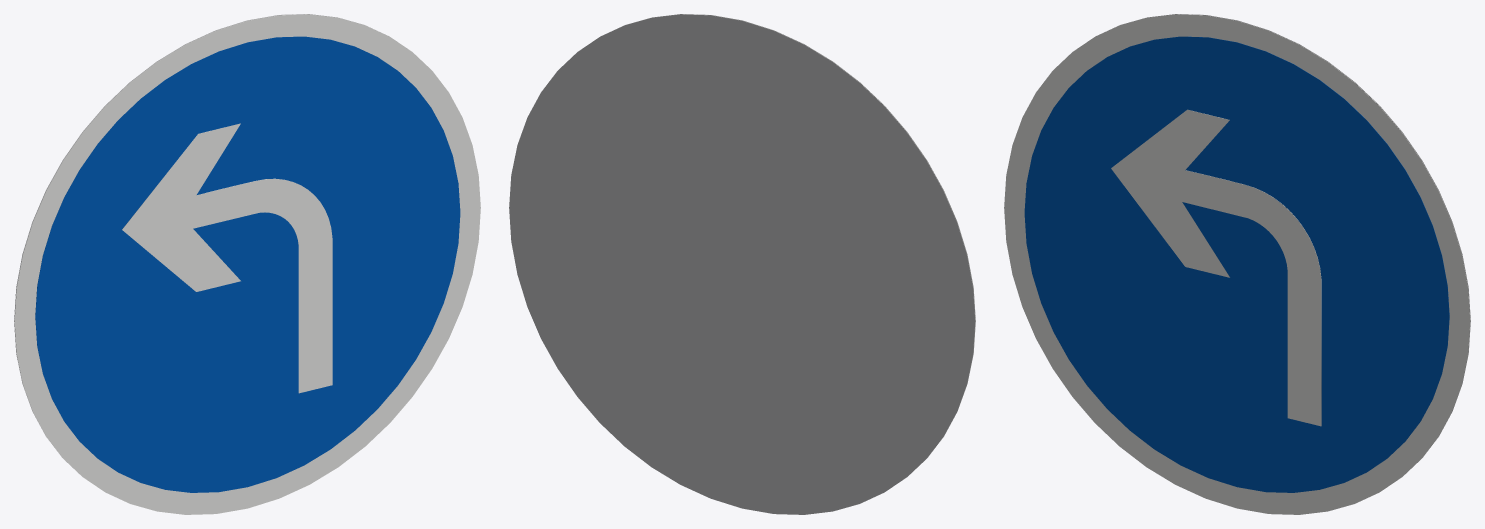
The picture shows the model from 3 angles, left to right: view 1: azimuth 30°, elevation 25°; view 2: azimuth 150°, elevation 25°; view 3: azimuth 330°, elevation 25°; orthographic projection.
Visible parts, largest first — view 1: B21c2_p01, B21c2_p00, B21c2_p02, B21c2_dos; view 2: B21c2_dos, B21c2_p00; view 3: B21c2_p01, B21c2_p00, B21c2_p02, B21c2_dos.
Part boxes in pixels (x1,y1,x2,y2): B21c2_p01: [35, 36, 460, 492]; B21c2_p00: [14, 14, 480, 514]; B21c2_p02: [122, 123, 332, 393]; B21c2_dos: [14, 14, 385, 473]; B21c2_dos: [509, 14, 975, 514]; B21c2_p00: [604, 14, 975, 473]; B21c2_p01: [1024, 36, 1449, 492]; B21c2_p00: [1004, 14, 1470, 514]; B21c2_p02: [1111, 109, 1321, 426]; B21c2_dos: [1099, 14, 1470, 473].
Size of the model in its own units: 0.85 by 0.8498 by 0.0031.
